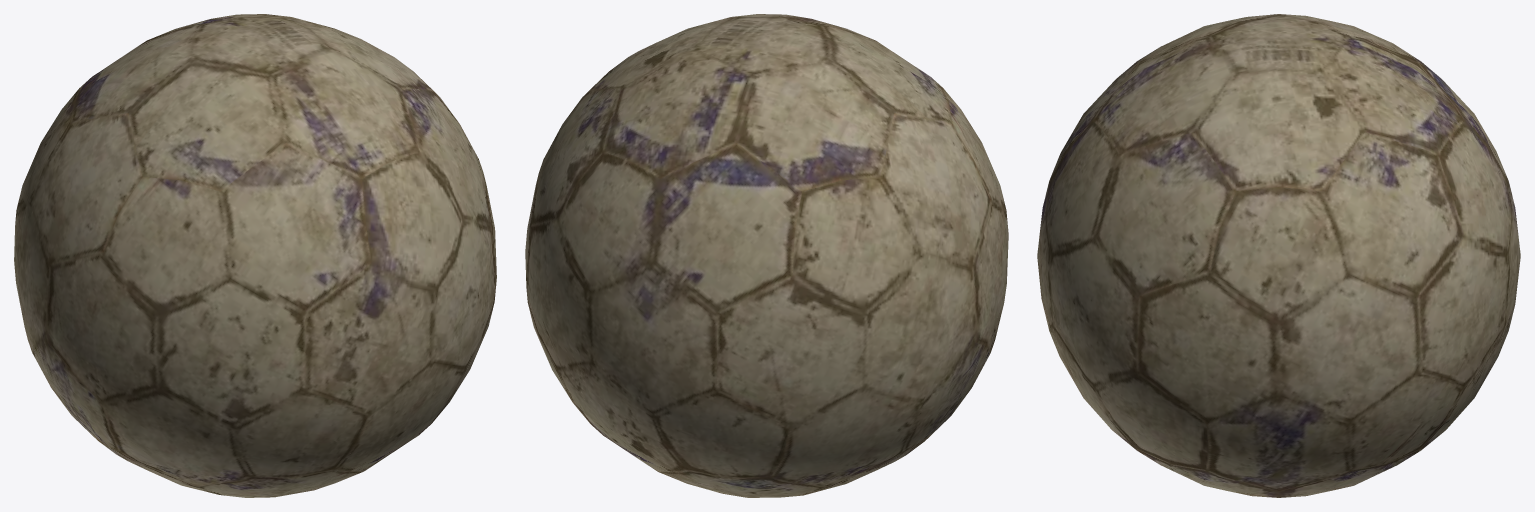
File: football.glb
3 renders of one model, left to right at view 1: azimuth 30°, elevation 25°; view 2: azimuth 150°, elevation 25°; view 3: azimuth 270°, elevation 25°, orthographic.
Parts seen in each view (by area): view 1: football_inflated; view 2: football_inflated; view 3: football_inflated.
Part boxes in pixels (x1,y1,x2,y2): football_inflated: (14, 14, 496, 497); football_inflated: (525, 14, 1008, 497); football_inflated: (1037, 14, 1520, 497).
Bounding box in the file's own units: 0.2203 × 0.2219 × 0.2206.
Materials: 1 (1 with a texture image).
